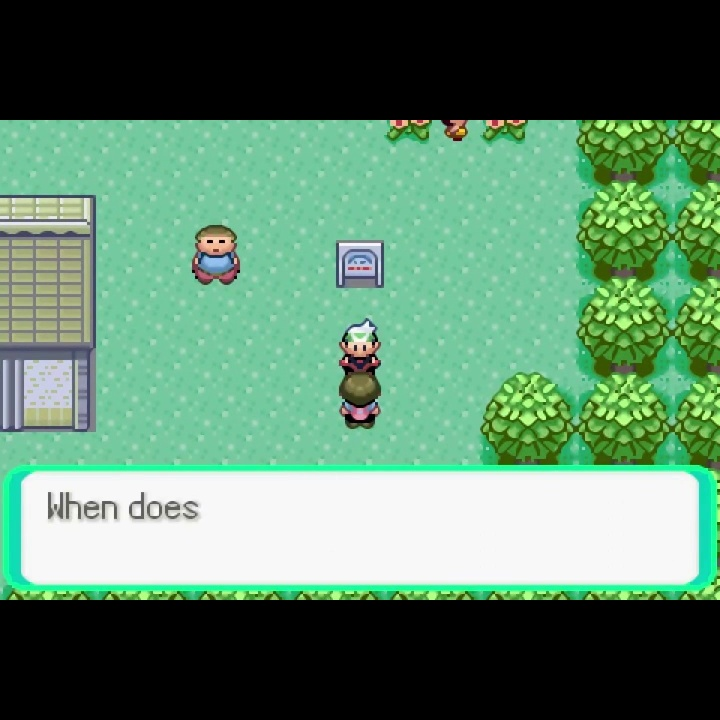house: (1, 193, 98, 434)
npc: (189, 223, 242, 290), (336, 371, 385, 434), (336, 320, 383, 375)
wall: (576, 180, 673, 278), (576, 276, 672, 374), (480, 372, 576, 465), (576, 372, 672, 465), (576, 120, 672, 180), (671, 177, 720, 278), (671, 277, 720, 375), (673, 372, 720, 465), (673, 120, 720, 180)
